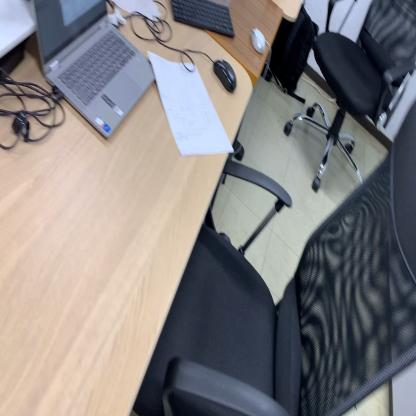chair: (145, 95, 416, 416), (283, 0, 416, 201)
